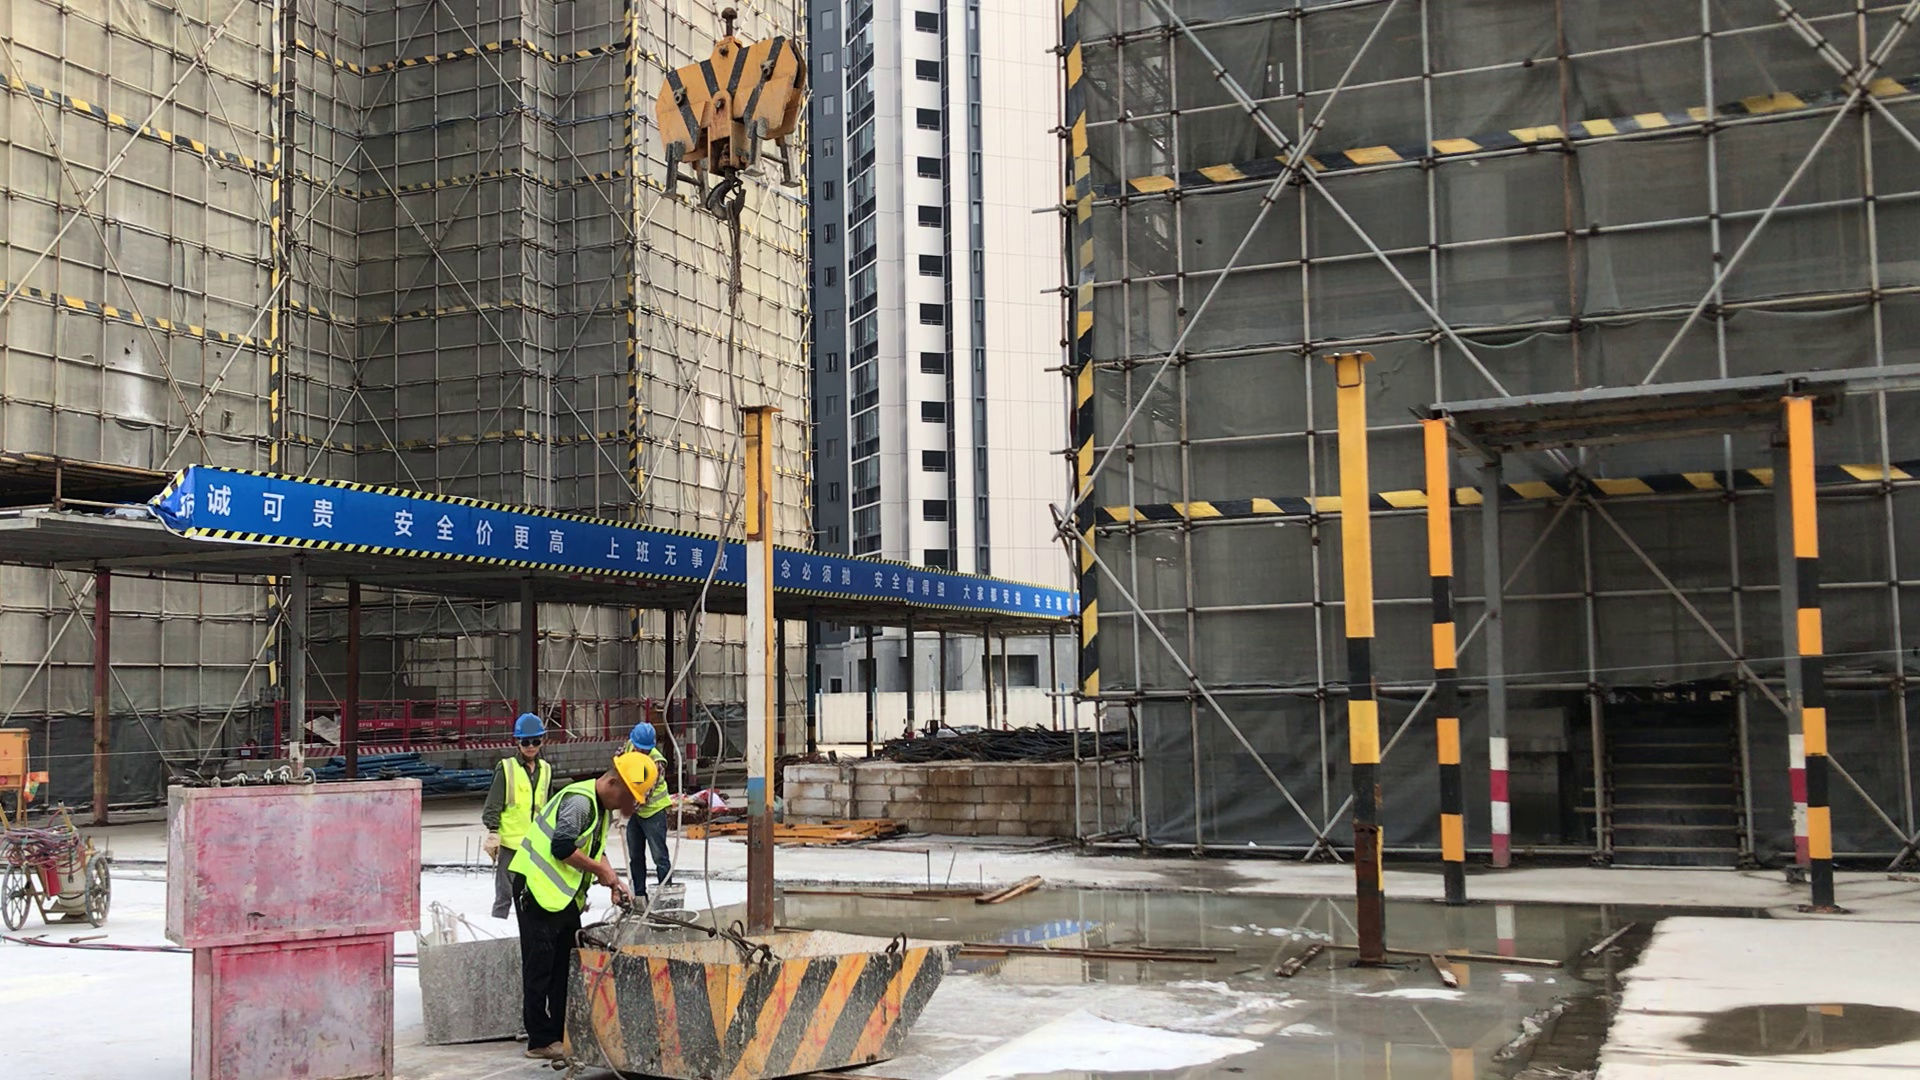ebox: (1, 725, 33, 828)
fence: (188, 460, 702, 589), (781, 542, 1060, 624), (363, 696, 508, 752), (560, 699, 624, 744)
handcart: (4, 801, 114, 937)
helmet: (509, 777, 609, 912), (612, 749, 660, 808), (511, 713, 545, 739), (629, 722, 656, 751)
hook: (634, 5, 811, 223)
hopper: (570, 928, 977, 1080), (413, 904, 514, 1046)
person: (503, 749, 662, 1061), (482, 711, 556, 924), (623, 722, 684, 901)
vest: (496, 754, 549, 855)
